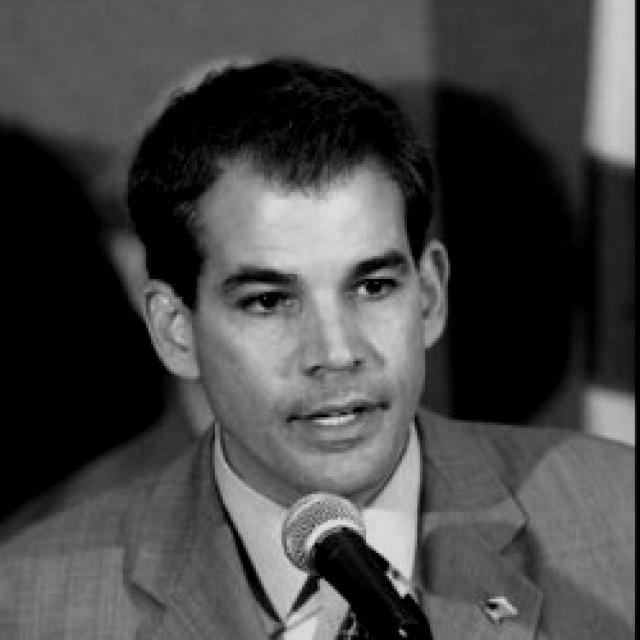real: (136, 71, 474, 480), (219, 259, 419, 318)
